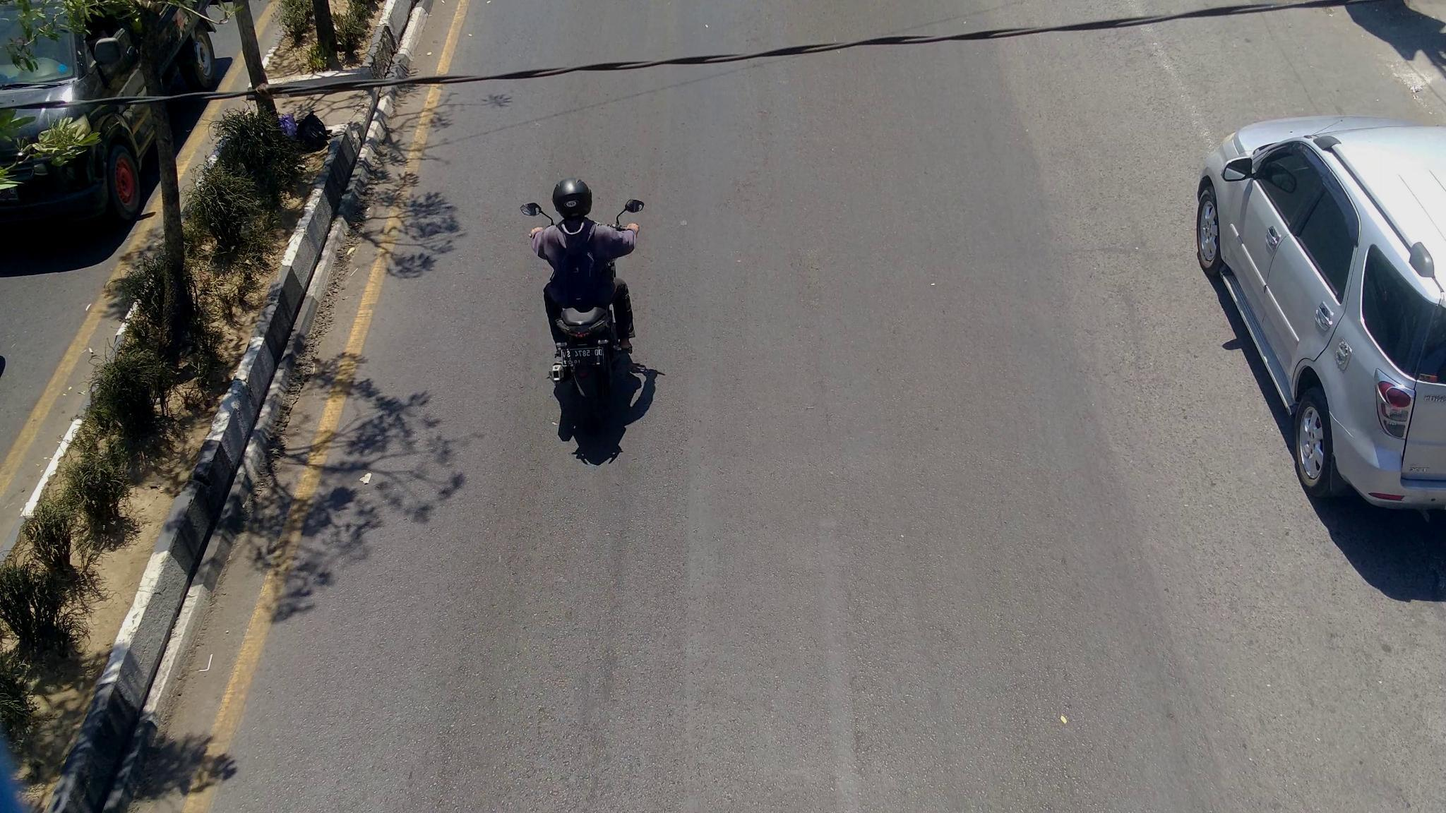Helmet: (549, 171, 600, 223)
bike: (520, 197, 648, 421)
number-plate: (557, 346, 605, 366)
rider: (531, 176, 642, 355)
